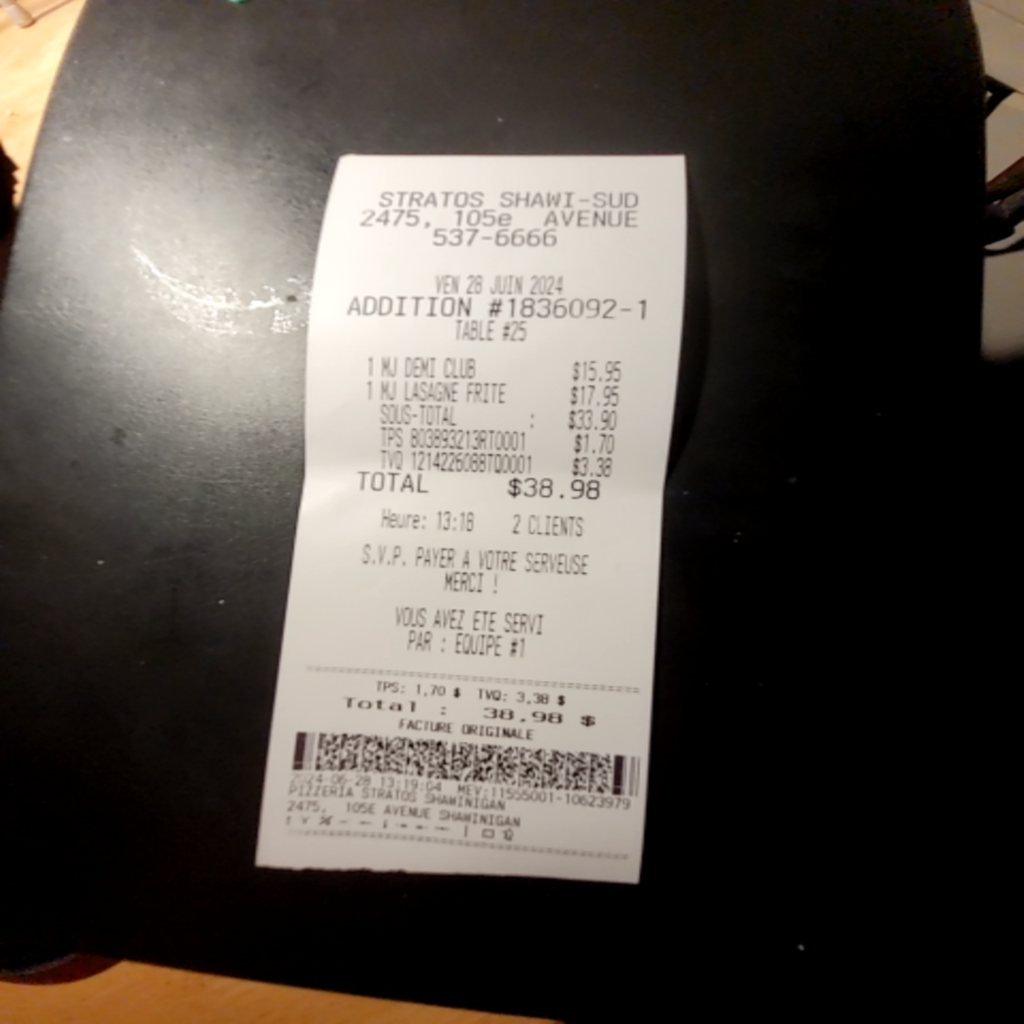recipt: (252, 153, 688, 883)
